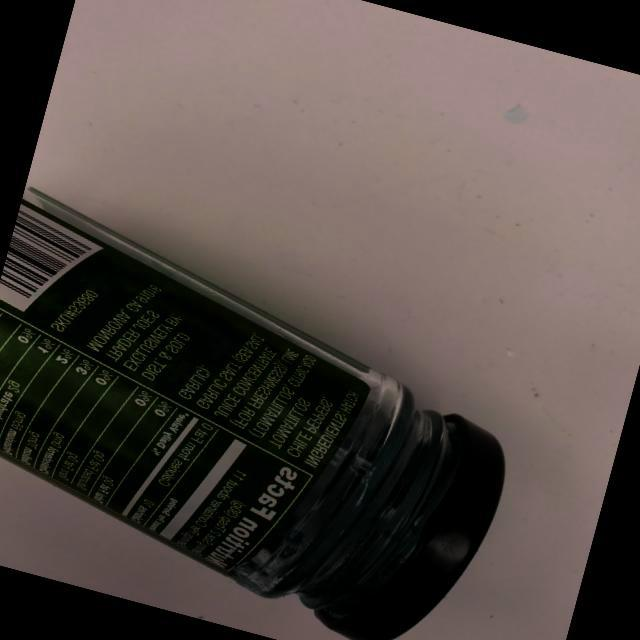glass: (0, 168, 555, 640)
